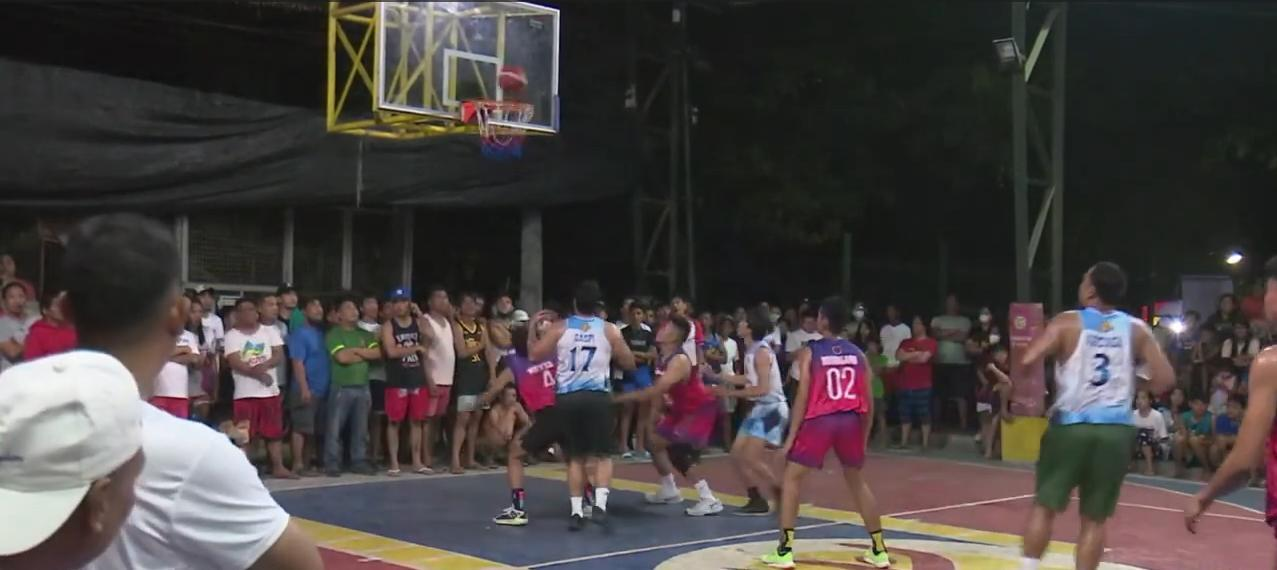ball: (497, 65, 534, 97)
human: (997, 255, 1185, 570), (768, 293, 898, 570), (528, 272, 615, 540), (458, 312, 560, 535), (707, 305, 797, 517), (643, 313, 725, 520)
rim: (448, 87, 541, 165)
